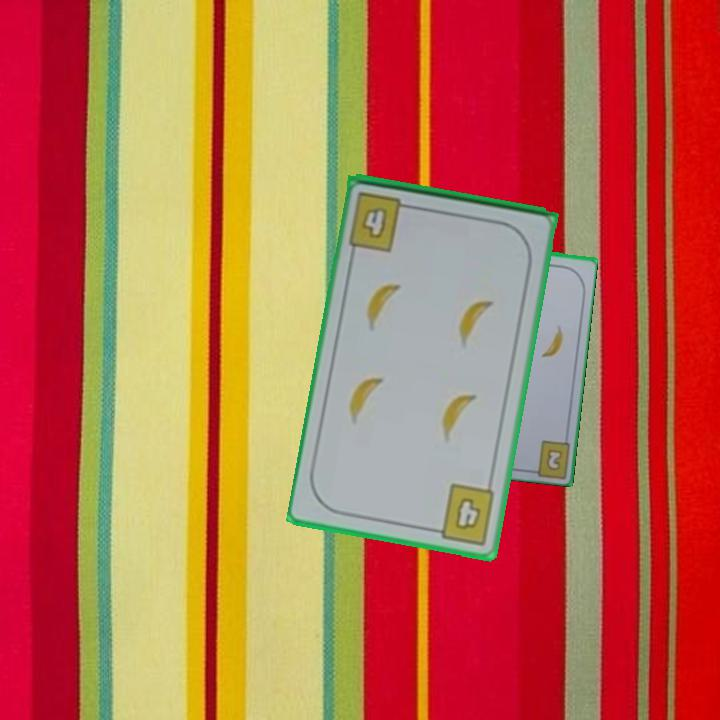2b: (543, 445, 565, 474)
4b: (345, 188, 418, 255), (427, 480, 498, 548)
